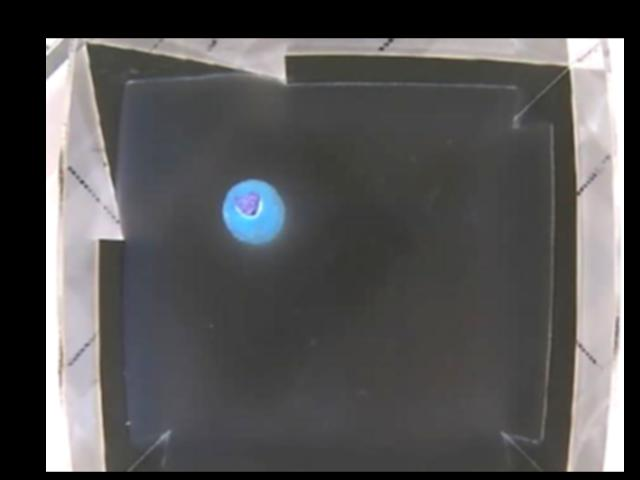Carrot: (223, 178, 285, 244)
